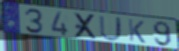3: (23, 8, 45, 35)
4: (50, 11, 71, 37)
9: (152, 21, 174, 48)
K: (127, 18, 147, 44)
U: (98, 15, 123, 43)
X: (73, 12, 99, 40)
